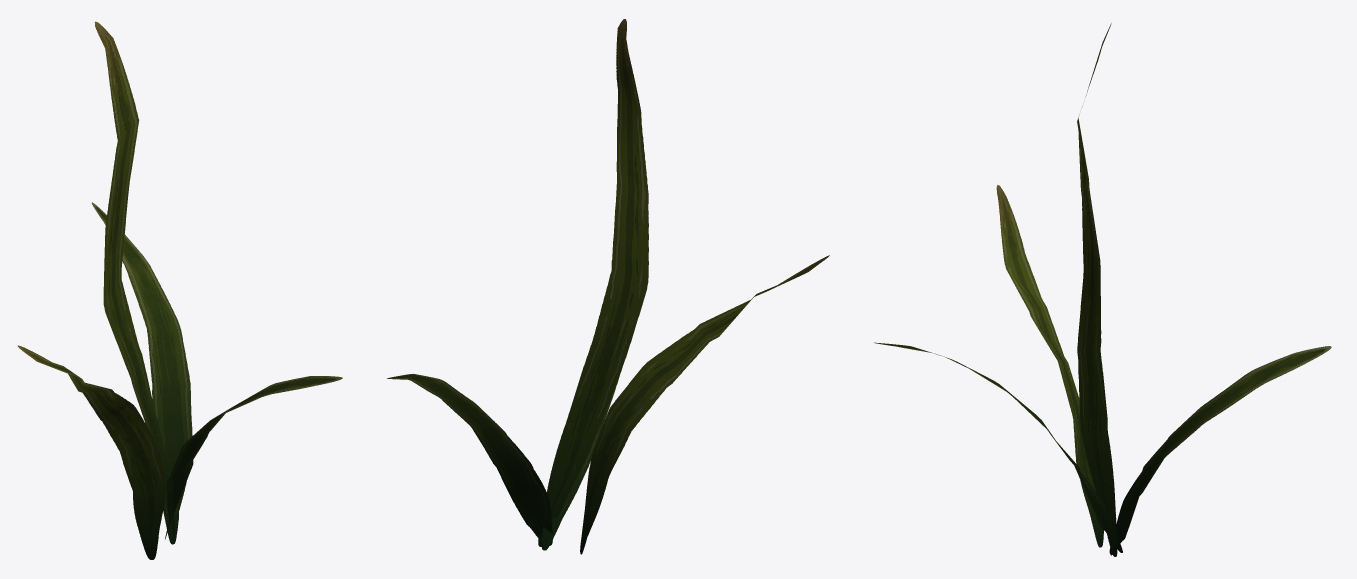
The model's file is Grass_Large_2.fbx.
The picture shows the model from 3 angles, left to right: view 1: azimuth 30°, elevation 25°; view 2: azimuth 150°, elevation 25°; view 3: azimuth 270°, elevation 25°; orthographic projection. The views are drawn at different scales.
Visible parts, largest first — view 1: Grass_Large_2; view 2: Grass_Large_2; view 3: Grass_Large_2.
Boxes of the visible parts, <box> form: Grass_Large_2: <box>17,21,342,559</box>; Grass_Large_2: <box>387,19,829,554</box>; Grass_Large_2: <box>874,23,1331,556</box>.
Bounding box in the file's own units: 0.955 × 1.81 × 1.52.
